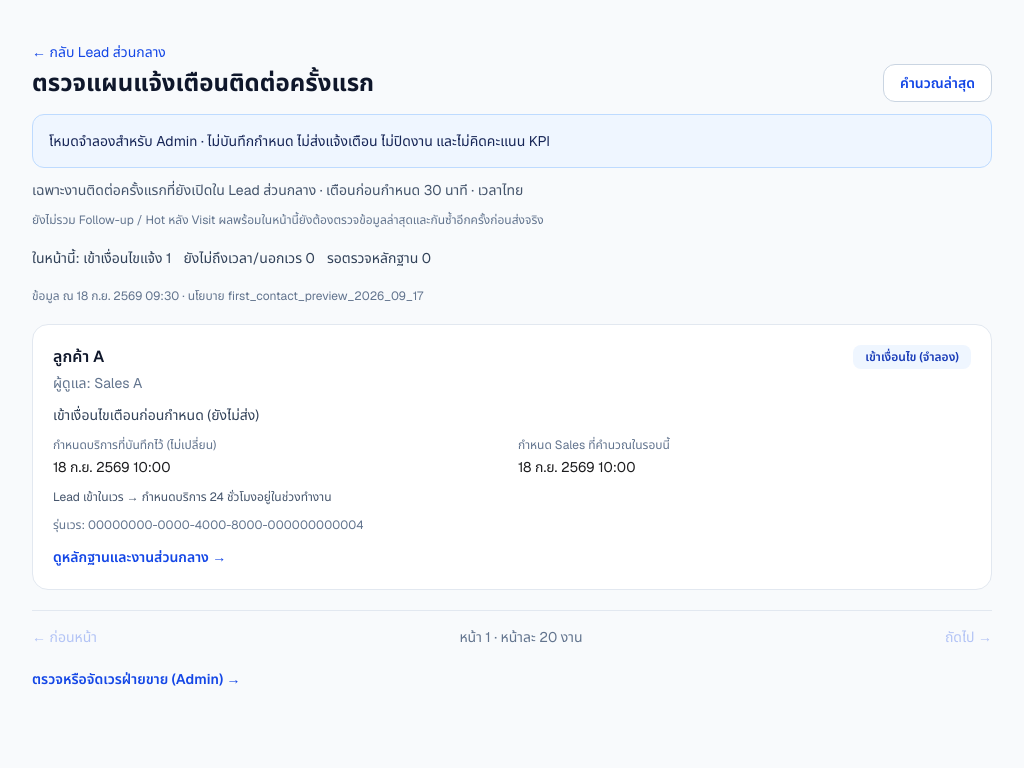
it: read-only Admin first-contact preview › rejects an unexpected page after reloading
Expected: the heading "ลูกค้า A" is shown, [53, 346, 104, 367]
Click the button "คำนวณล่าสุด": [938, 83] box [883, 64, 992, 102]
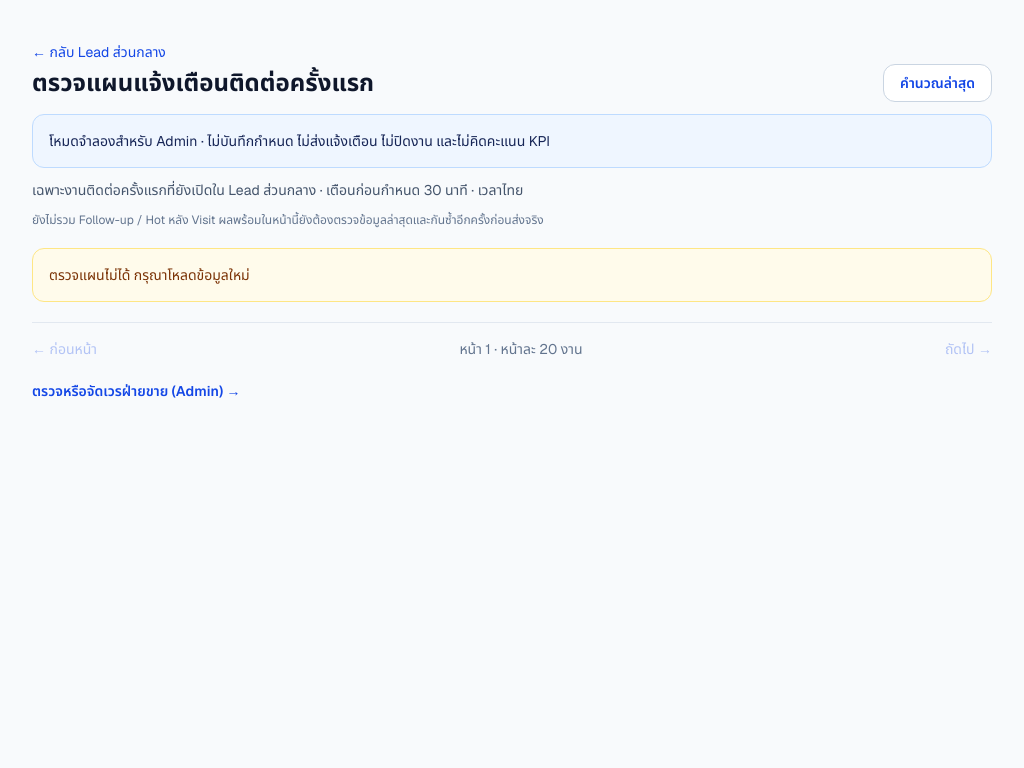
Expected: the message "ตรวจแผนไม่ได้ กรุณาโหลดข้อมูลใหม่" is shown, [32, 248, 992, 302]
